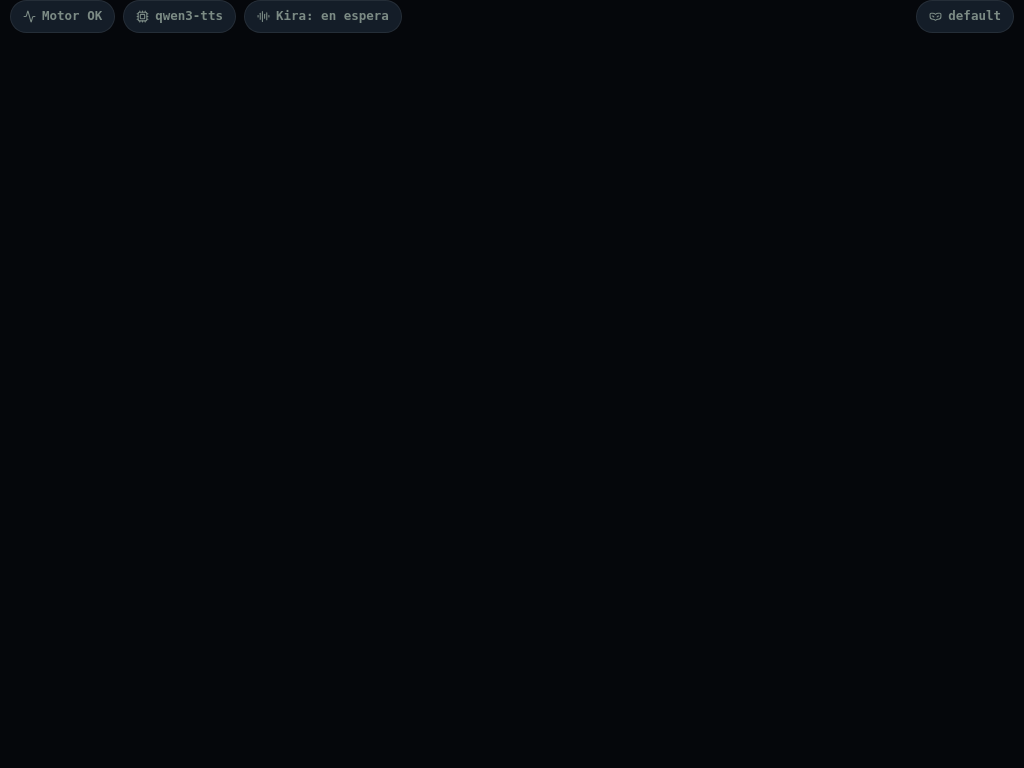
Test: StatusRail — Motor why-popover (a11y: keyboard + outside-click) › opens on click and appends the health detail table with real numbers
This screenshot has width=1024, height=768.
Click the button "Motor OK": (63, 16) [10,0,115,33]
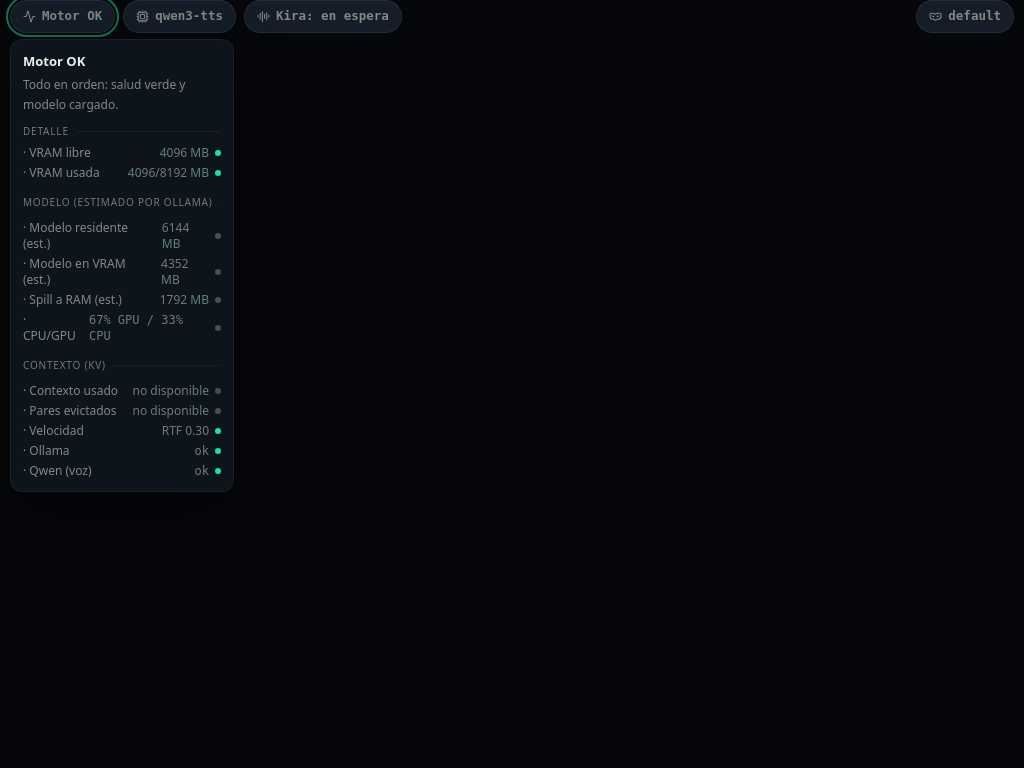
Now the dialog "Motor OK" shows "Todo en orden", box [23,76,186,113]
Now the dialog "Motor OK" shows "VRAM libre", box [29,144,91,161]
Now the dialog "Motor OK" shows "4096 MB", box [160,144,209,161]
